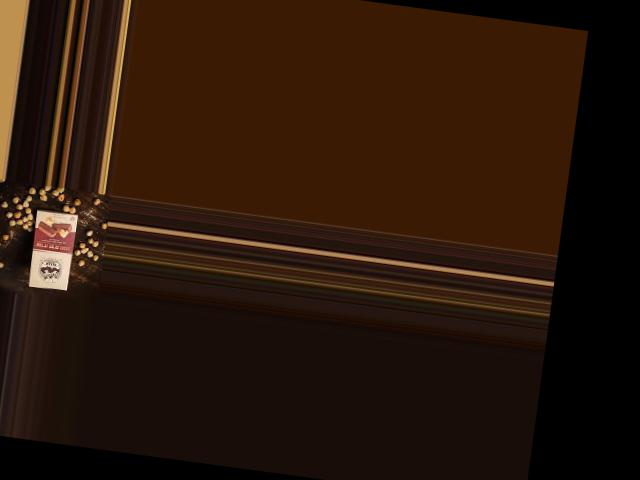chocolate: (22, 206, 80, 293)
